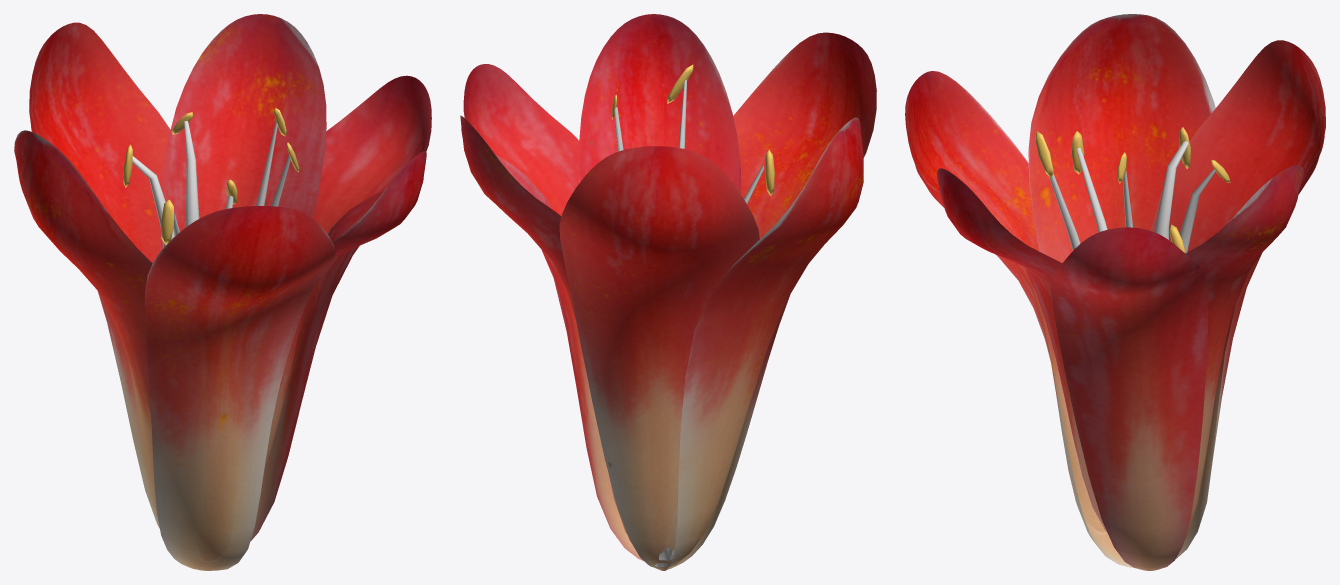
The picture shows the model from 3 angles, left to right: view 1: azimuth 30°, elevation 25°; view 2: azimuth 150°, elevation 25°; view 3: azimuth 270°, elevation 25°; orthographic projection. The views are drawn at different scales.
Parts seen in each view (by area): view 1: G-Line003.075; view 2: G-Line003.075; view 3: G-Line003.075.
Boxes of the visible parts, left/top/right/bottom form: G-Line003.075: left=14, top=14, right=431, bottom=570; G-Line003.075: left=460, top=14, right=876, bottom=570; G-Line003.075: left=905, top=14, right=1325, bottom=570.
Size of the model in its own units: 0.3045 by 0.3781 by 0.2945.
Materials: 3 (1 with a texture image).
